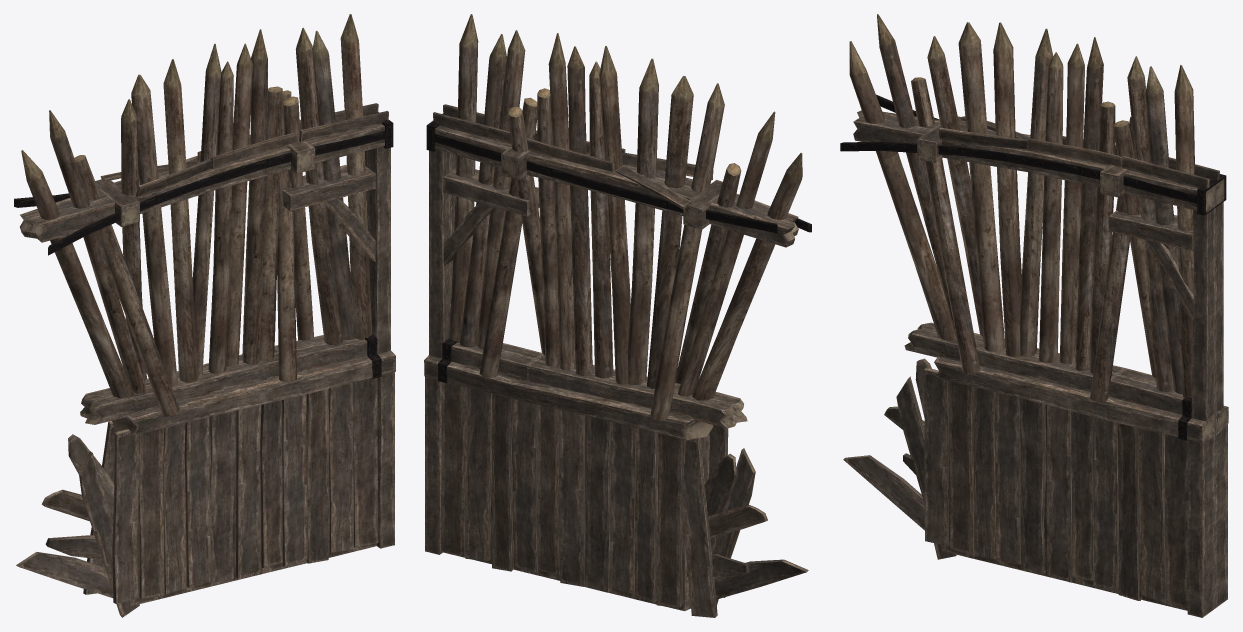
The model's file is jav_struc_def_ironwood_t2_wall_a_brkna-transformed.glb.
The picture shows the model from 3 angles, left to right: view 1: azimuth 30°, elevation 25°; view 2: azimuth 150°, elevation 25°; view 3: azimuth 330°, elevation 25°; orthographic projection.
Visible parts, largest first — view 1: default; view 2: default; view 3: default.
Part boxes in pixels (x1=…): default: x1=14, y1=14, x2=395, y2=617; default: x1=424, y1=14, x2=811, y2=617; default: x1=840, y1=14, x2=1228, y2=617.
Bounding box in the file's own units: 8.19 × 11.67 × 1.47.
Materials: 1 (1 with a texture image).
